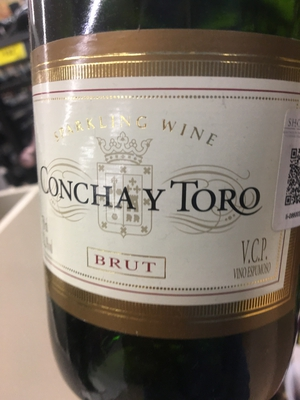brut: (25, 14, 300, 385)
